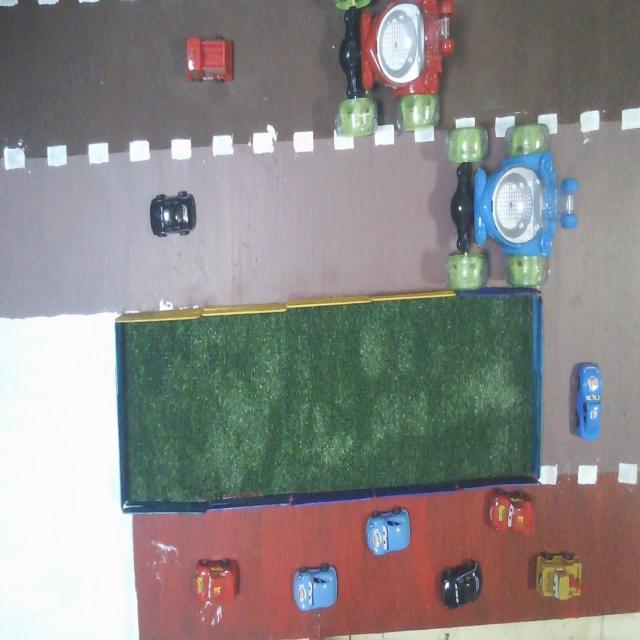driver car f: (446, 124, 578, 290)
small cars: (536, 552, 584, 600), (365, 507, 411, 556), (489, 487, 535, 535), (150, 191, 196, 236), (293, 564, 338, 610), (441, 560, 483, 609), (187, 37, 233, 81), (576, 363, 602, 440), (195, 558, 239, 603)
